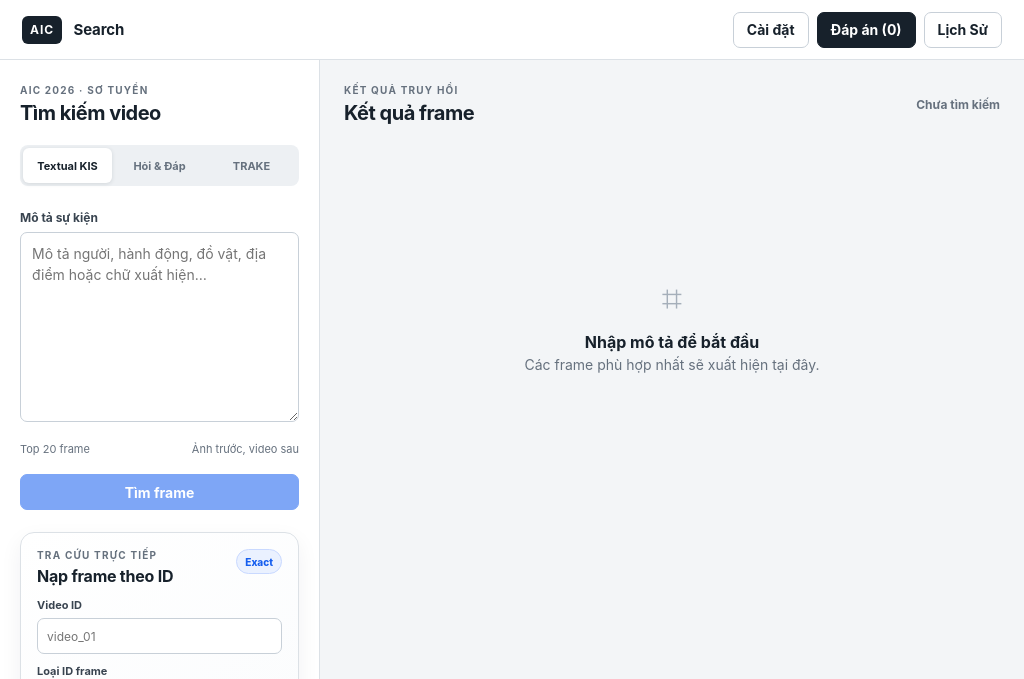
Scenario: qualification frame-first workbench › does not show the original query as an improved preview when the improver falls back
In the text box labelled "Mô tả sự kiện": (160, 327) left=20, top=232, right=299, bottom=422, type "Một cửa hàng trên phố"
(page scrolled)
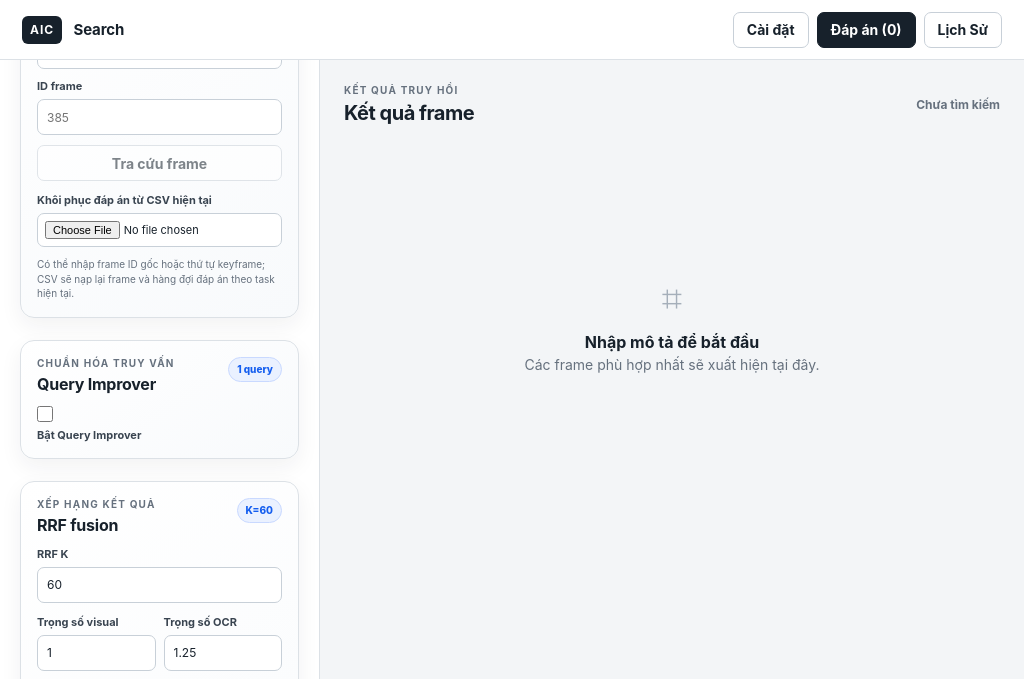
Click the checkbox labelled "Bật Query Improver": (45, 414) left=37, top=406, right=53, bottom=422
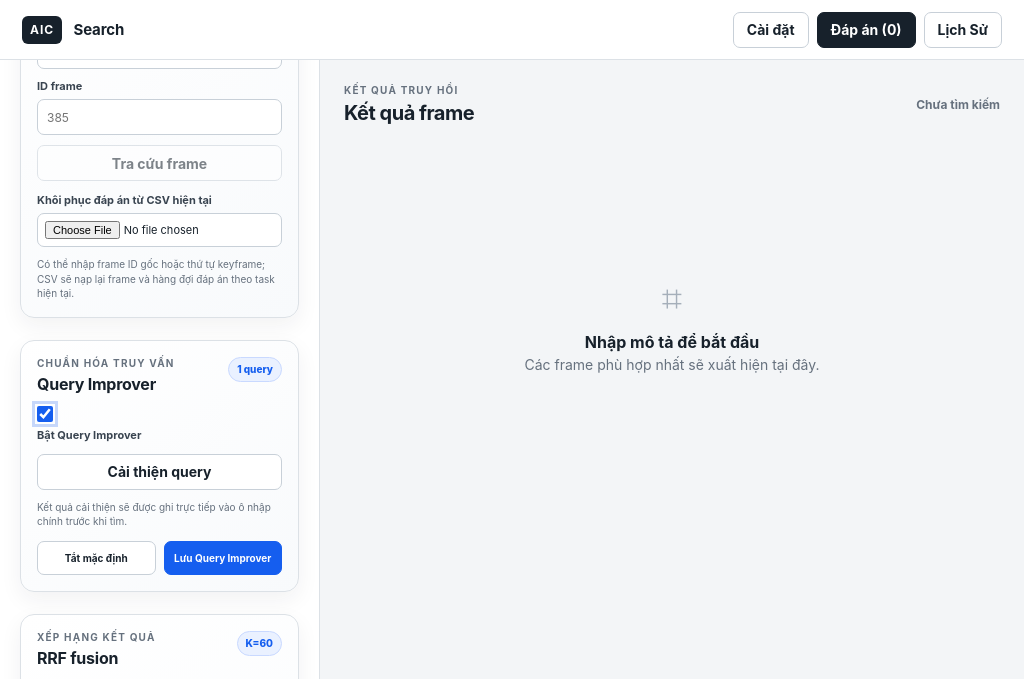
Click the button "Cải thiện query": (160, 472) left=37, top=454, right=282, bottom=490
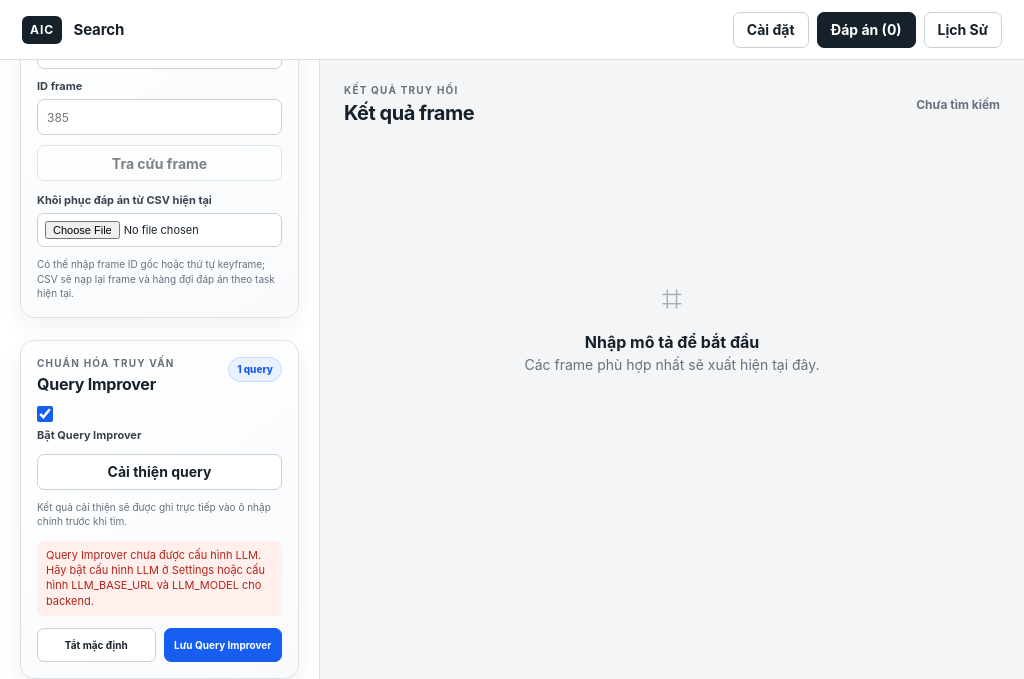
Check: the 1st message shows "chưa được cấu hình LLM", box left=46, top=548, right=265, bottom=608
